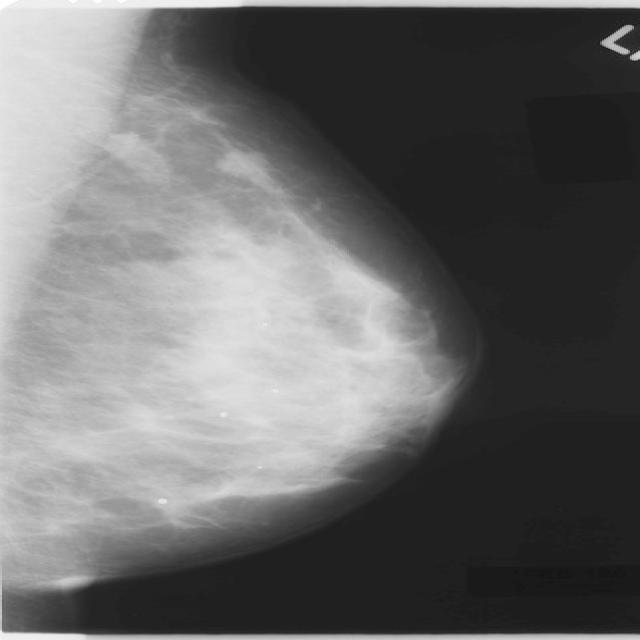tumour: (213, 149, 269, 180)
